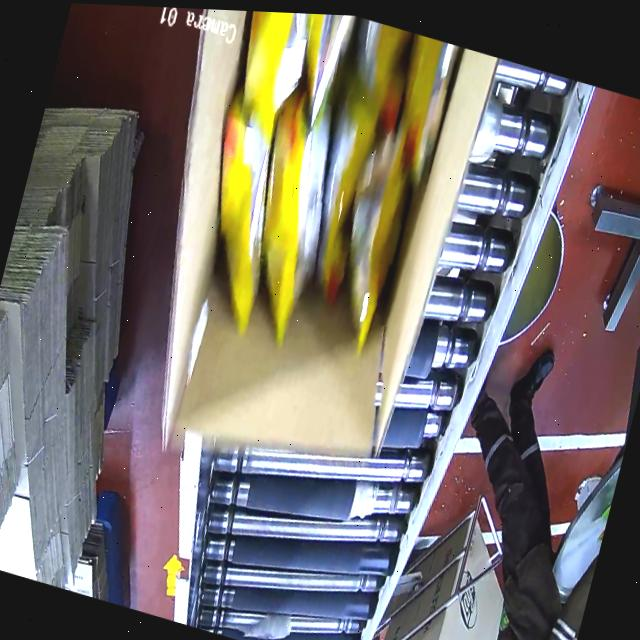SALTED: (148, 7, 455, 380)
